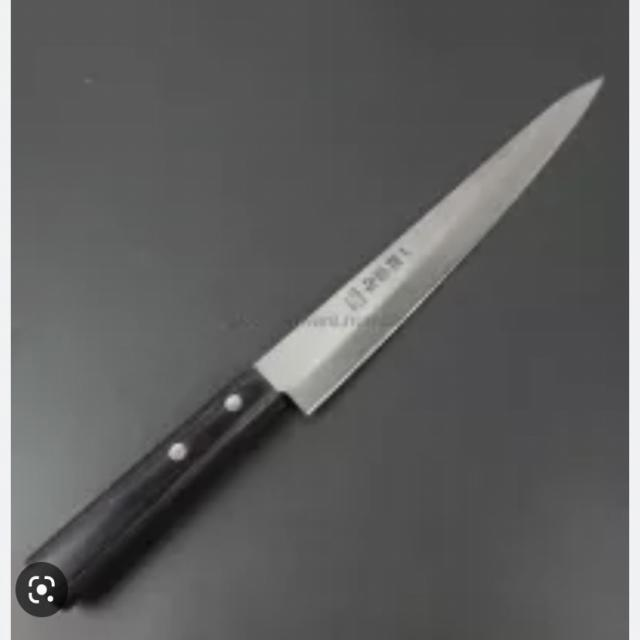Knife: (31, 68, 611, 614)
